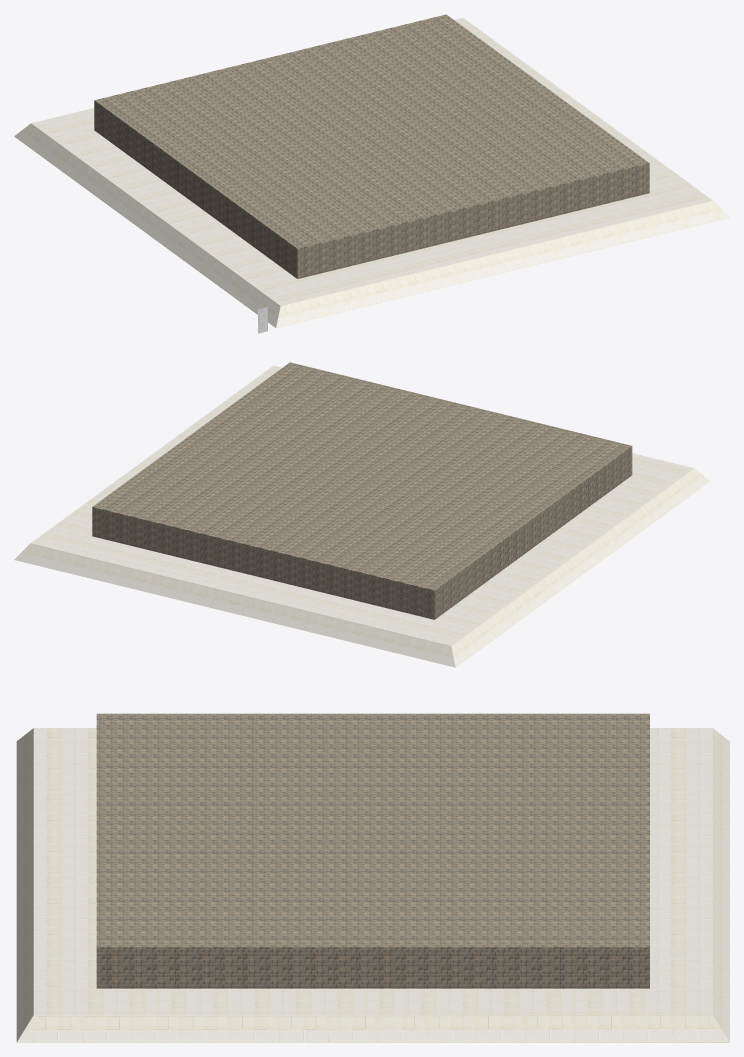
Rendered from Aba_Pyramid.glb.
The picture shows the model from 3 angles, top to bottom: view 1: azimuth 30°, elevation 25°; view 2: azimuth 150°, elevation 25°; view 3: azimuth 270°, elevation 25°; orthographic projection. The views are drawn at different scales.
Parts seen in each view (by area): view 1: Mesh1 Model; view 2: Mesh1 Model; view 3: Mesh1 Model.
Part boxes in pixels (x1,y1,x2,y2): Mesh1 Model: (14, 14, 729, 328); Mesh1 Model: (14, 362, 710, 667); Mesh1 Model: (16, 713, 729, 1042).
Bounding box in the file's own units: 32.81 × 3 × 31.62.
Materials: 3 (3 with a texture image).
